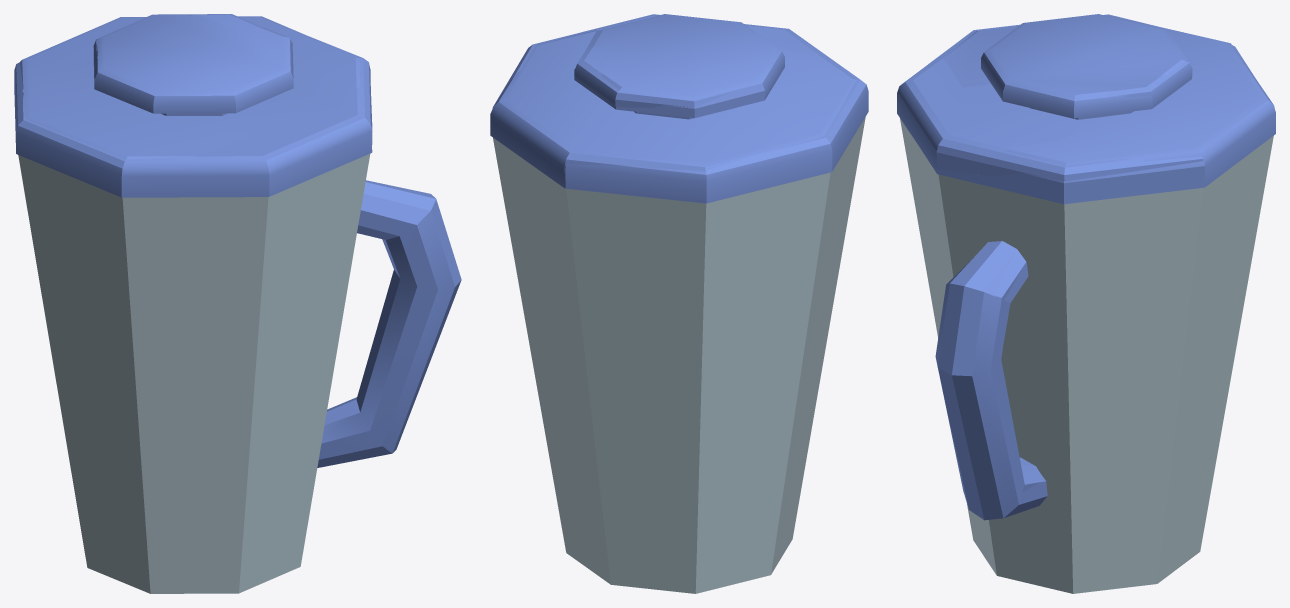
Rendered from copoliquidificador.fbx.
The picture shows the model from 3 angles, left to right: view 1: azimuth 30°, elevation 25°; view 2: azimuth 150°, elevation 25°; view 3: azimuth 270°, elevation 25°; orthographic projection.
Visible parts, largest first — view 1: CopoDoLiquidificador, Tampa; view 2: CopoDoLiquidificador, Tampa; view 3: CopoDoLiquidificador, Tampa.
Part boxes in pixels (x1,y1,x2,y2): CopoDoLiquidificador: [18, 154, 461, 593]; Tampa: [14, 14, 372, 197]; CopoDoLiquidificador: [493, 117, 865, 593]; Tampa: [490, 14, 868, 203]; CopoDoLiquidificador: [900, 118, 1273, 593]; Tampa: [897, 14, 1275, 204].
Bounding box in the file's own units: 621 × 796 × 556.
